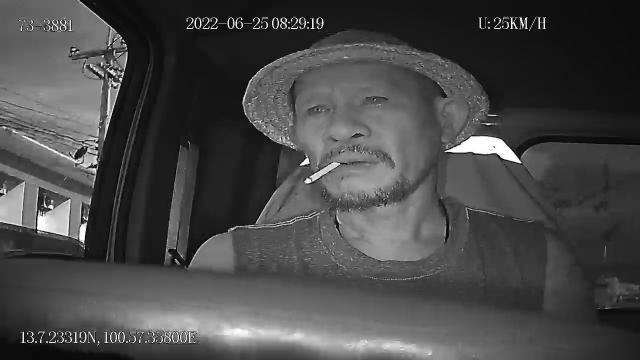SafeDriving: (355, 87, 395, 112), (300, 95, 337, 120)
Smoking: (306, 160, 340, 186)
